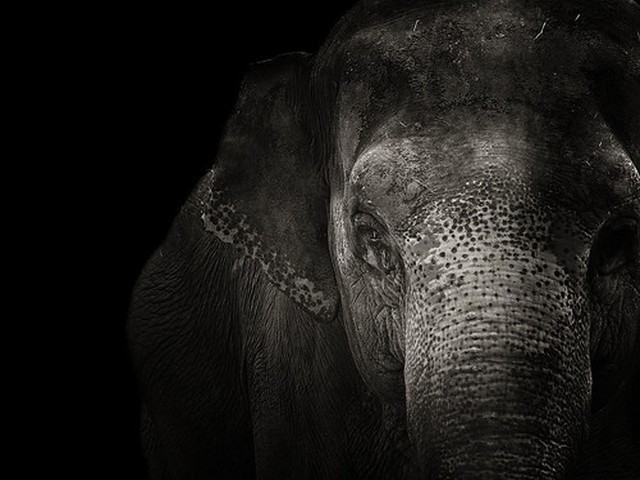Elephant: (128, 5, 640, 479)
